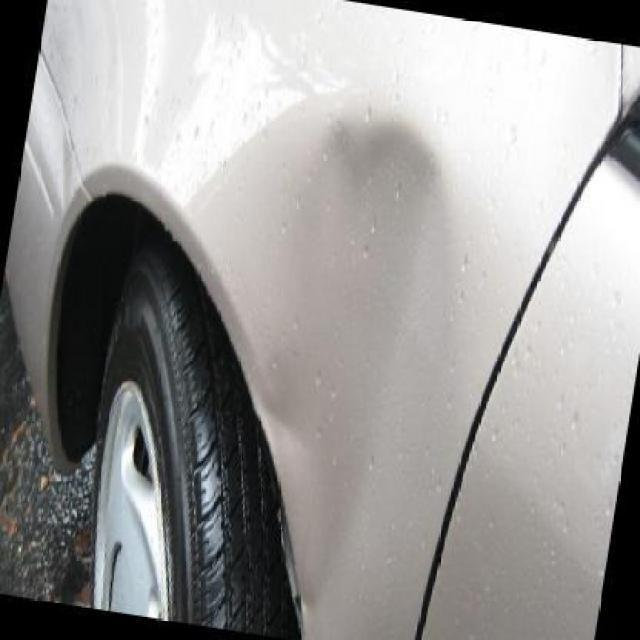dent: (180, 98, 455, 549)
